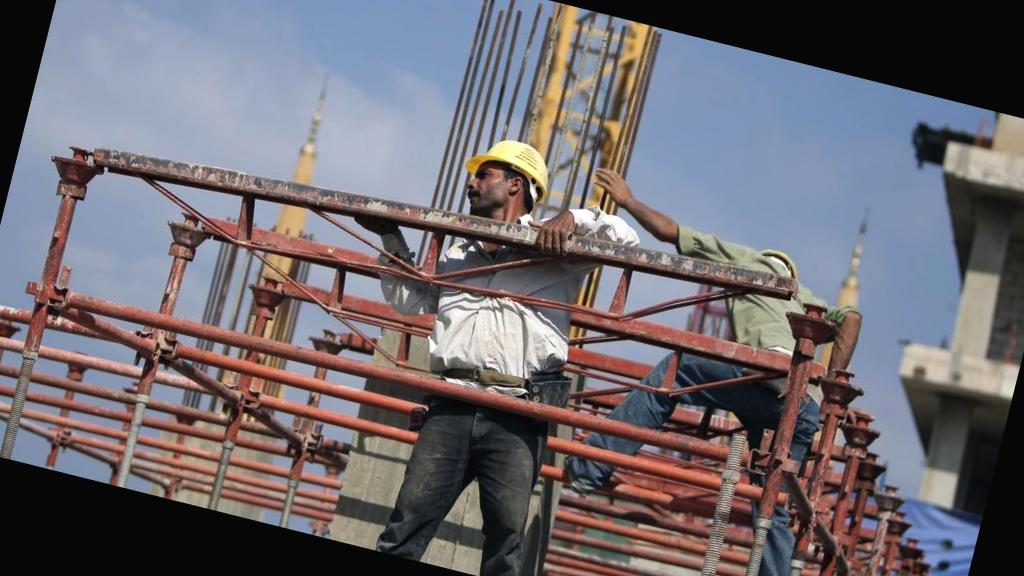helmet: (459, 132, 562, 208)
person: (366, 123, 637, 576)
